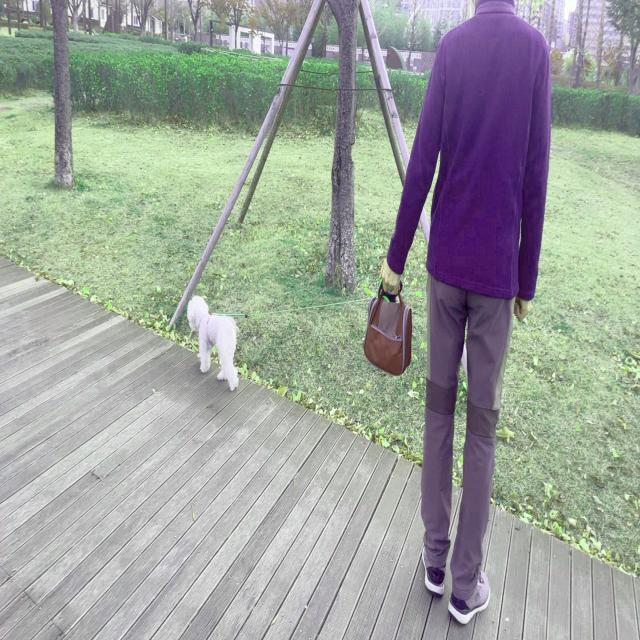Leashed_Dog: (187, 236, 465, 392)
